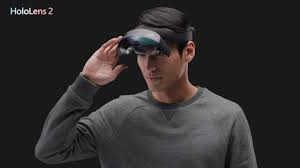hololens: (115, 24, 194, 56)
